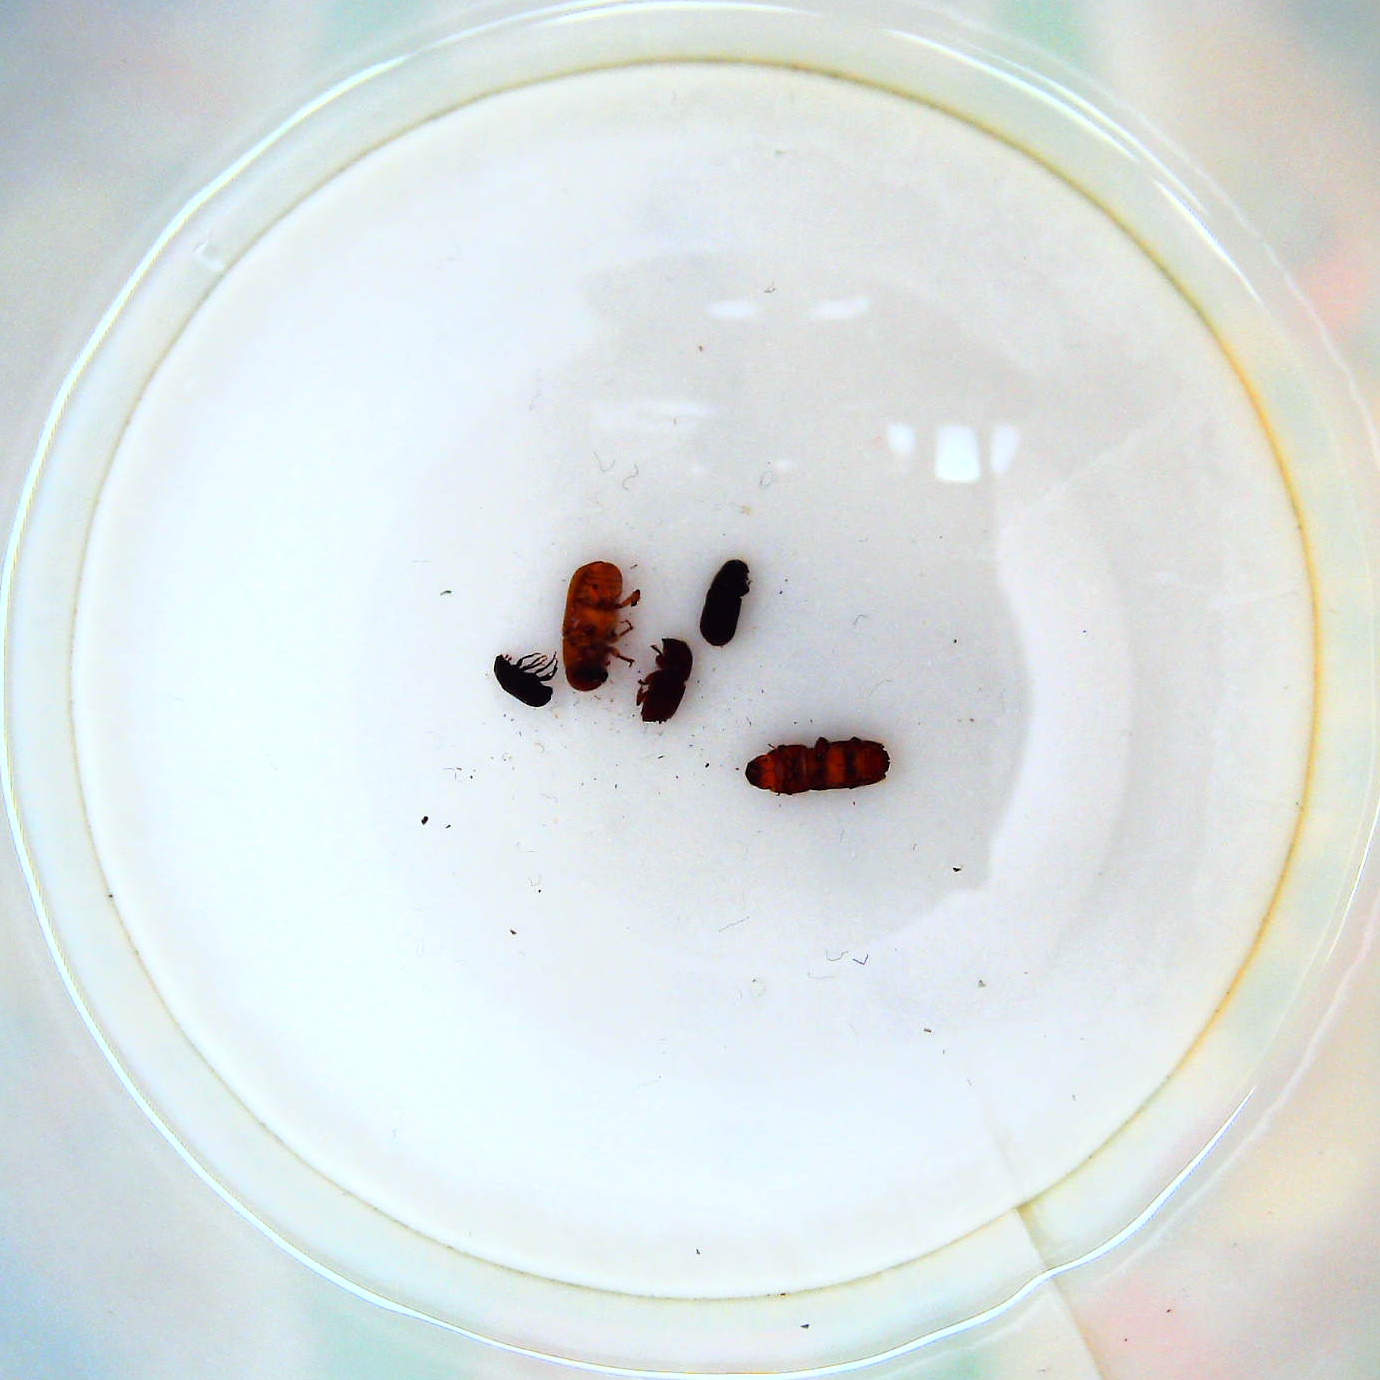Boerner: (741, 730, 904, 802)
Leconte: (559, 556, 647, 698)
armandi: (691, 551, 762, 651)
coleoptera: (484, 645, 564, 711)
linnaeus: (634, 636, 701, 730)
